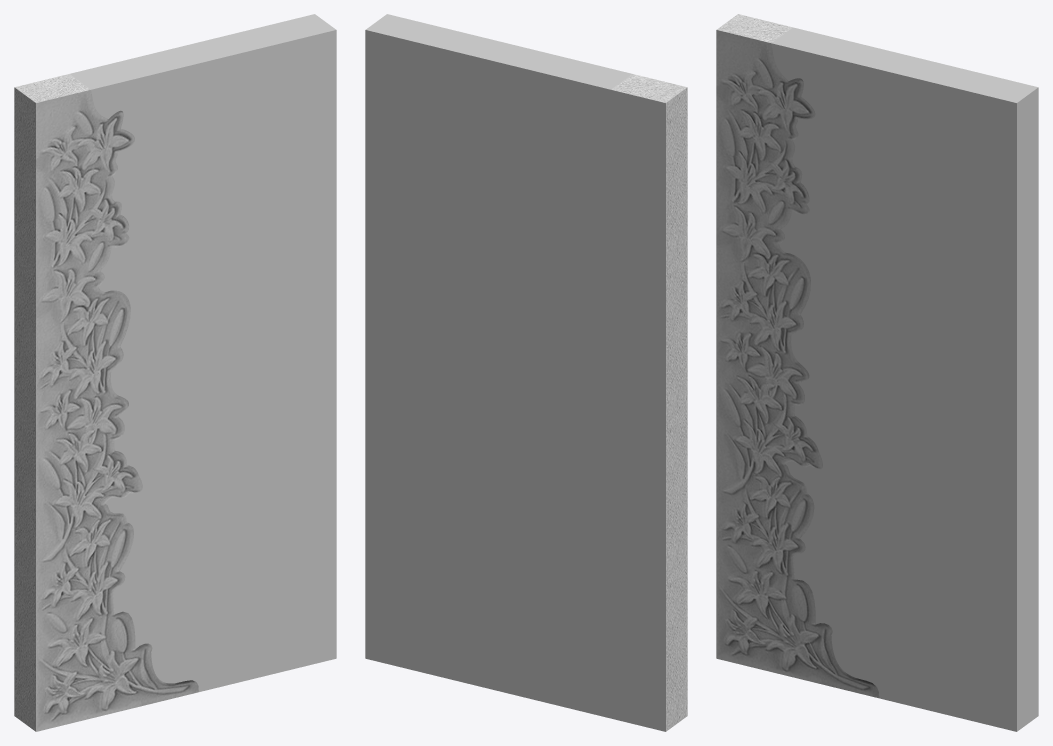
File: cn2e71b3c524_tkf.glb
3 renders of one model, left to right at view 1: azimuth 30°, elevation 25°; view 2: azimuth 150°, elevation 25°; view 3: azimuth 330°, elevation 25°, orthographic.
Parts seen in each view (by area): view 1: Pam-d03-039, Pam-d03-039_2_notexture; view 2: Pam-d03-039, Pam-d03-039_2_notexture; view 3: Pam-d03-039, Pam-d03-039_2_notexture.
Part boxes in pixels (box(x1,y1,x2,y2)): Pam-d03-039: box(70, 14, 336, 691); Pam-d03-039_2_notexture: box(14, 74, 198, 731); Pam-d03-039: box(365, 14, 665, 731); Pam-d03-039_2_notexture: box(611, 74, 687, 731); Pam-d03-039: box(771, 27, 1038, 731); Pam-d03-039_2_notexture: box(716, 14, 879, 698).
Size of the model in its own units: 0.4 by 0.8 by 0.05.
Materials: 1 (1 with a texture image).
